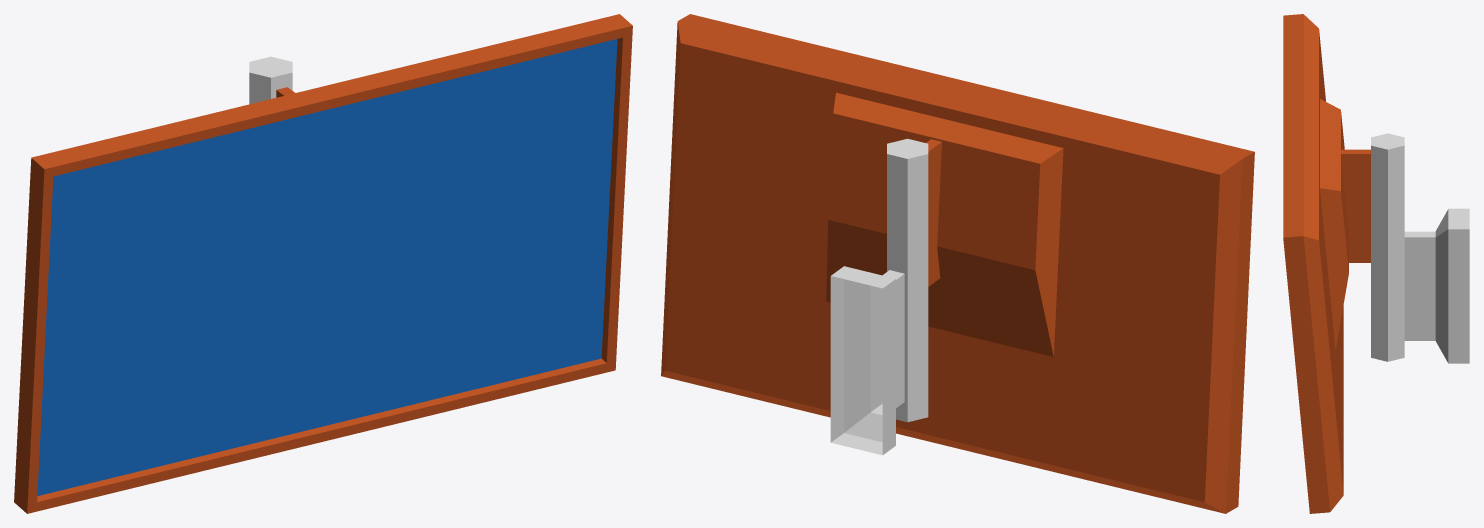
The picture shows the model from 3 angles, left to right: view 1: azimuth 30°, elevation 25°; view 2: azimuth 150°, elevation 25°; view 3: azimuth 270°, elevation 25°; orthographic projection. The views are drawn at different scales.
Visible parts, largest first — view 1: TV; view 2: TV; view 3: TV.
Boxes of the visible parts, bbox=[...] form: TV: bbox=[14, 14, 632, 513]; TV: bbox=[661, 14, 1254, 513]; TV: bbox=[1283, 14, 1469, 513].
Bounding box in the file's own units: 92.39 × 53.91 × 32.81.
